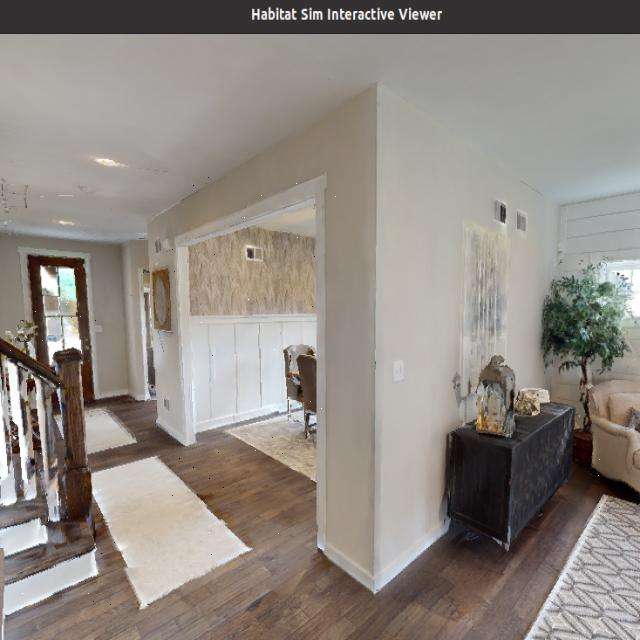door-frame: (170, 162, 337, 556)
sofa: (571, 363, 640, 518)
stairs: (0, 290, 119, 621)
